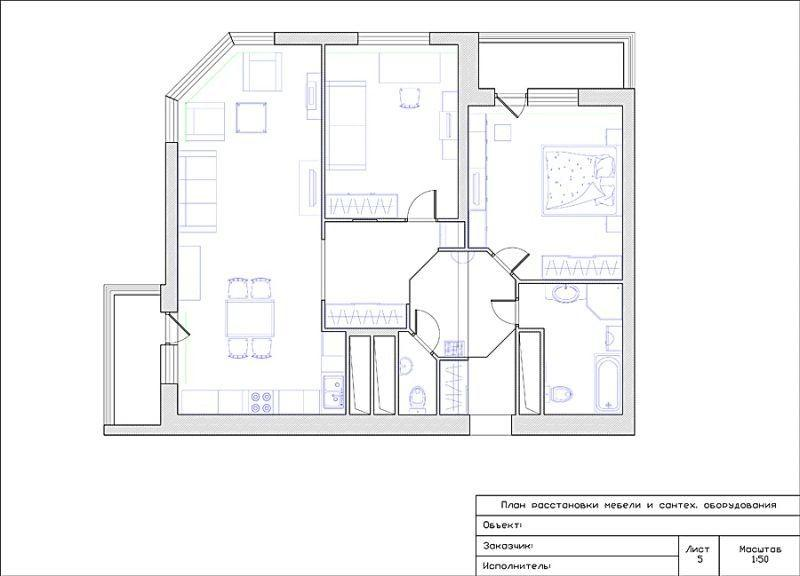balcony: (478, 42, 624, 89), (113, 296, 162, 426)
bathroom: (518, 282, 622, 415)
bedroom: (468, 106, 623, 281)
hallway: (325, 222, 516, 415)
home_office: (325, 44, 458, 219)
kitchen: (177, 299, 347, 415)
living_room: (178, 44, 322, 301)
toilet: (399, 332, 437, 416)
